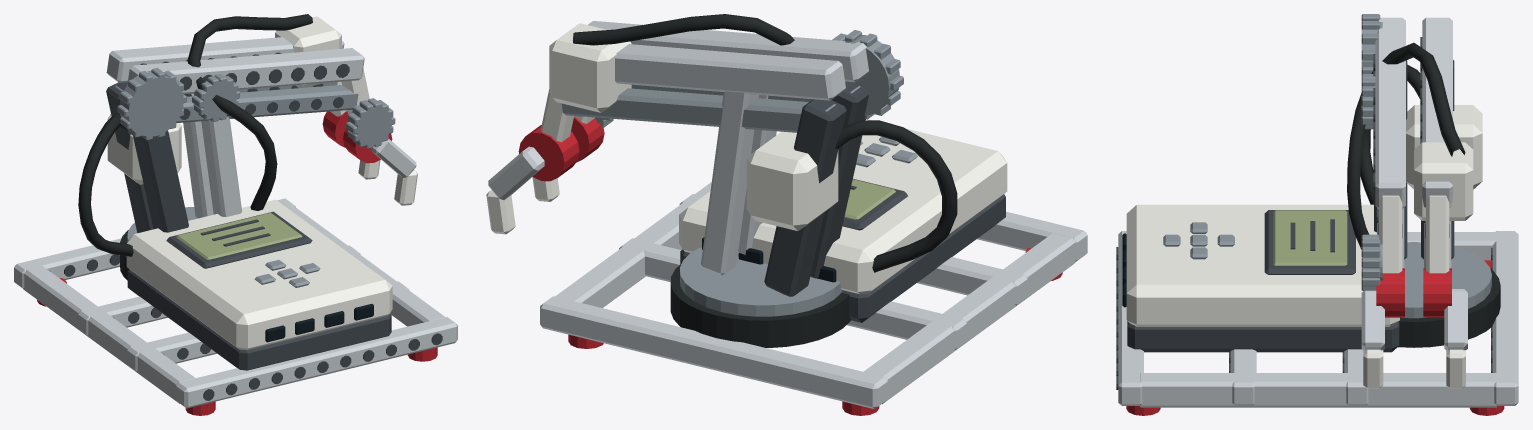
The model's file is ev3-arm.glb.
3 renders of one model, left to right at view 1: azimuth 30°, elevation 25°; view 2: azimuth 150°, elevation 25°; view 3: azimuth 270°, elevation 25°, orthographic. The views are drawn at different scales.
Parts seen in each view (by area): view 1: Блок EV3: белый корпус, Поперечная рейка, Блок EV3: нижняя часть, Продольная рейка, Длинное плечо, Кабель захвата, Нижнее плечо, Длинное плечо.002, Длинное плечо.001, Стекло дисплея, Вертикальная стойка, Шестерня (+17 smaller); view 2: Блок EV3: белый корпус, Поперечная рейка.003, Длинное плечо.002, Продольная рейка, Привод стрелы, Вертикальная стойка.001, Поворотная платформа, Нижнее плечо.001, Поворотная платформа.001, Длинное плечо.003, Длинное плечо, Привод захвата (+18 smaller); view 3: Блок EV3: белый корпус, Продольная рейка.001, Блок EV3: нижняя часть, Длинное плечо, Поперечная рейка.003, Кабель захвата, Стекло дисплея, Привод захвата, Длинное плечо.002, Поворотная платформа.001, Поворотная платформа, Привод стрелы (+15 smaller).
Part boxes in pixels (x1,y1,x2,y2): Блок EV3: белый корпус: (126,199,392,349); Поперечная рейка: (176,317,457,408); Блок EV3: нижняя часть: (127,269,391,370); Продольная рейка: (23,265,195,403); Длинное плечо: (127,48,364,94); Кабель захвата: (187,14,312,210); Нижнее плечо: (133,130,188,232); Длинное плечо.002: (106,37,344,82); Длинное плечо.001: (176,85,358,122); Стекло дисплея: (176,212,302,260); Вертикальная стойка: (201,116,241,216); Шестерня: (119,71,183,136); Блок EV3: белый корпус: (679,119,1007,294); Поперечная рейка.003: (540,296,887,409); Длинное плечо.002: (615,44,845,100); Продольная рейка: (863,233,1075,404); Привод стрелы: (746,131,838,230); Вертикальная стойка.001: (701,91,758,275); Поворотная платформа: (670,263,850,347); Нижнее плечо.001: (764,99,846,296); Поворотная платформа.001: (680,247,841,316); Длинное плечо.003: (561,88,835,132); Длинное плечо: (588,21,868,82); Привод захвата: (549,23,631,112); Блок EV3: белый корпус: (1126,204,1399,326); Продольная рейка.001: (1140,373,1497,407); Блок EV3: нижняя часть: (1127,321,1399,352); Длинное плечо: (1375,17,1405,208); Поперечная рейка.003: (1492,231,1518,405); Кабель захвата: (1347,42,1465,249); Стекло дисплея: (1273,210,1347,265); Привод захвата: (1414,142,1473,220); Длинное плечо.002: (1422,17,1452,207); Поворотная платформа.001: (1402,242,1491,318); Поворотная платформа: (1398,269,1500,347); Привод стрелы: (1406,105,1482,189).
Size of the model in its own units: 3.67 by 2.75 by 3.25.
